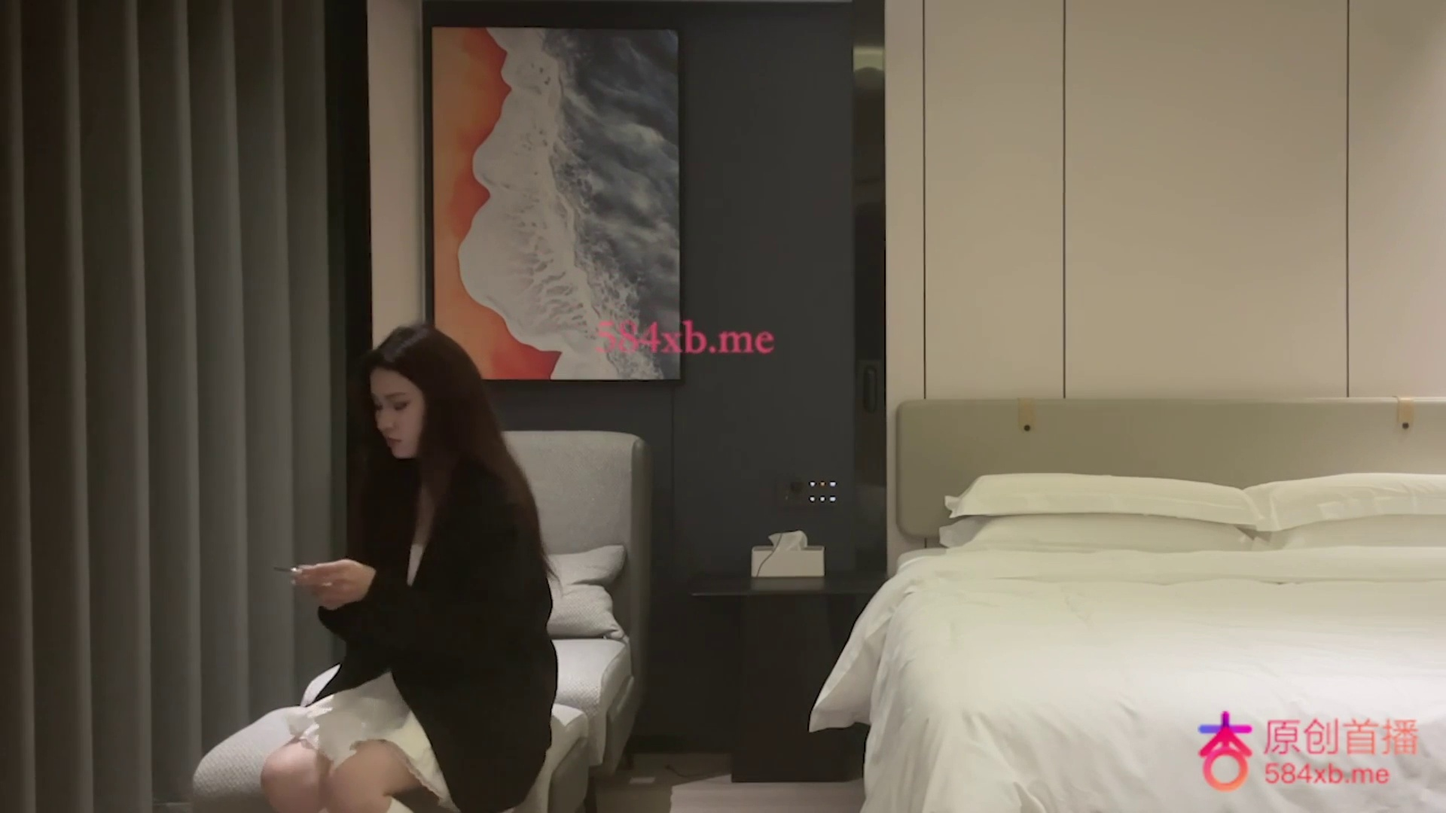sit: (259, 319, 558, 809)
